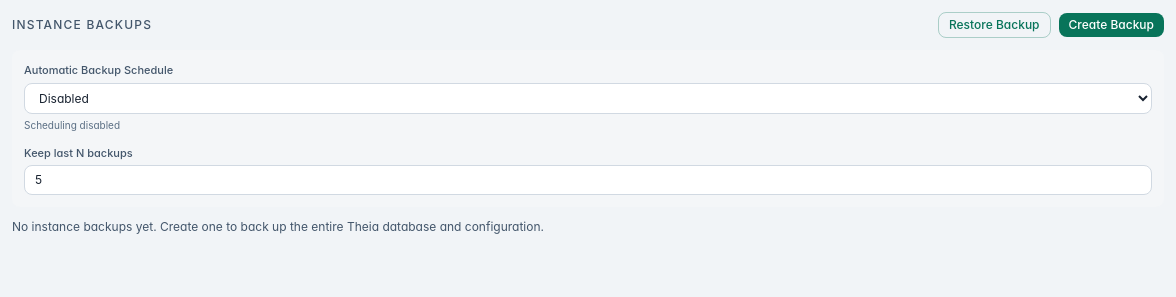
Test: InstanceBackupManager — independent initial loads › displays error when updateSetting fails
The image size is (1176, 297).
Select "Every 24 hours" in the dropdown showing "Disabled" at (588, 98), box [24, 82, 1152, 114]
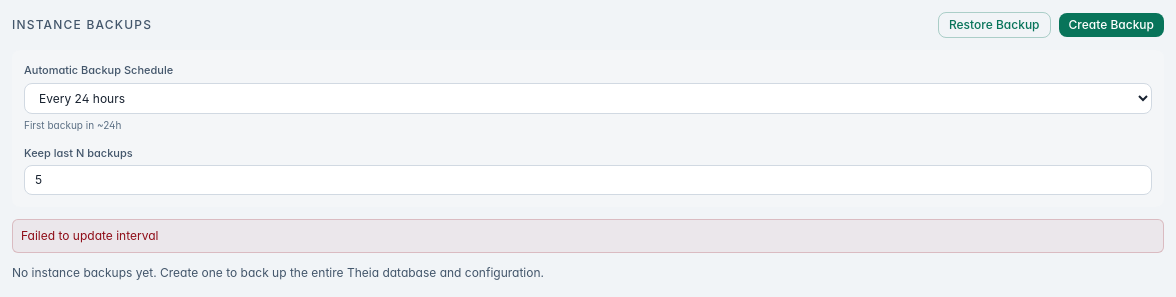
Check: the text "Failed to update interval" is shown, box [12, 219, 1164, 253]
